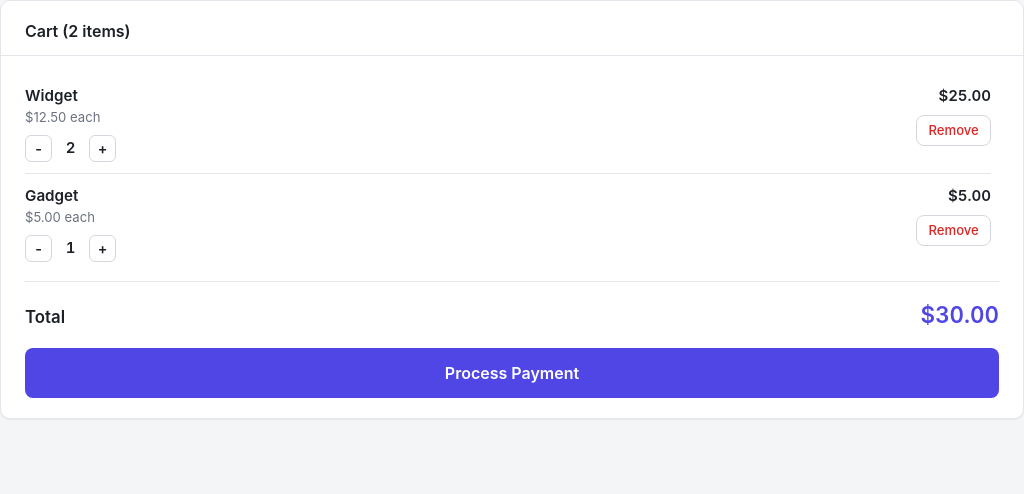
Cart › posts the transaction and clears the cart on Process Payment
This screenshot has width=1024, height=494.
Click the button "Process Payment".
click(512, 373)  # box left=25, top=348, right=999, bottom=398
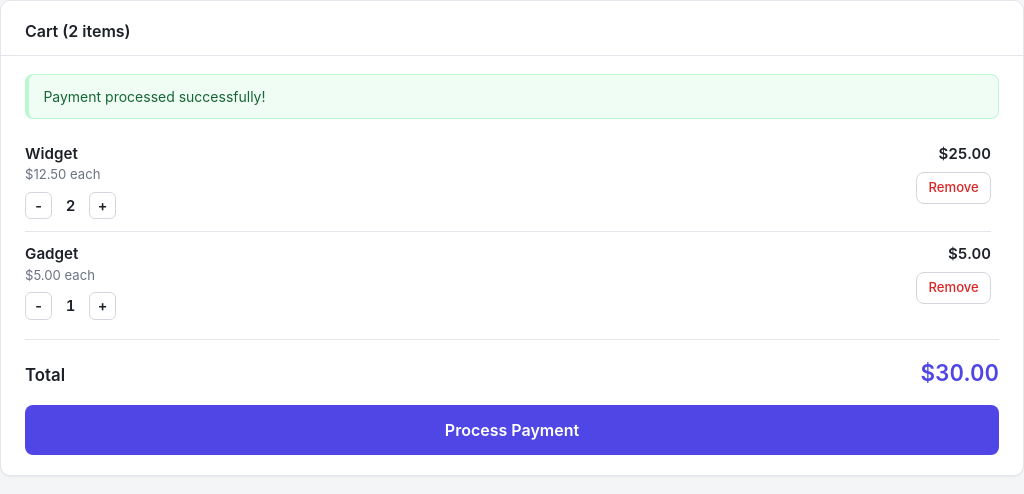
Check: the text "Payment processed successfully!" is shown, box left=25, top=74, right=999, bottom=119
